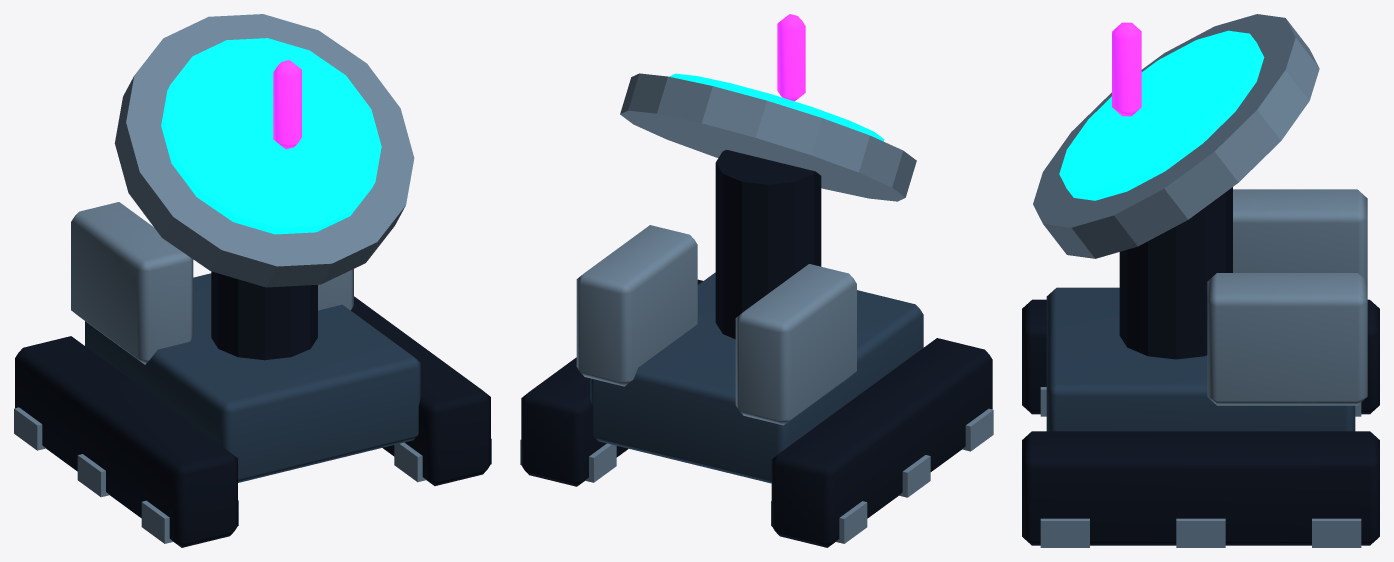
The model's file is disruptor.glb.
3 renders of one model, left to right at view 1: azimuth 30°, elevation 25°; view 2: azimuth 150°, elevation 25°; view 3: azimuth 270°, elevation 25°, orthographic. The views are drawn at different scales.
Parts seen in each view (by area): view 1: Electronic warfare chassis, Induction face, Faceted emitter dish, Tracked outrigger, Capacitor bank, Tracked outrigger.001, Emitter swivel, Pulse feed, Capacitor bank.001, Track shoe.002, Track shoe.001, Track shoe (+1 smaller); view 2: Electronic warfare chassis, Tracked outrigger, Faceted emitter dish, Capacitor bank, Capacitor bank.001, Emitter swivel, Tracked outrigger.001, Pulse feed, Induction face, Track shoe, Track shoe.001, Track shoe.002 (+1 smaller); view 3: Tracked outrigger.001, Faceted emitter dish, Electronic warfare chassis, Capacitor bank.001, Induction face, Emitter swivel, Capacitor bank, Tracked outrigger, Pulse feed, Track shoe.004, Track shoe.003, Track shoe.005.
Boxes of the visible parts, <box> form: Electronic warfare chassis: <box>85,273,420,482</box>; Induction face: <box>161,38,381,234</box>; Faceted emitter dish: <box>114,14,414,287</box>; Tracked outrigger: <box>15,336,237,547</box>; Capacitor bank: <box>71,202,193,364</box>; Tracked outrigger.001: <box>351,296,490,485</box>; Emitter swivel: <box>211,271,317,360</box>; Pulse feed: <box>273,60,301,149</box>; Capacitor bank.001: <box>318,269,353,310</box>; Track shoe.002: <box>141,500,238,543</box>; Track shoe.001: <box>77,454,109,497</box>; Track shoe: <box>14,407,45,450</box>; Electronic warfare chassis: <box>590,272,923,483</box>; Tracked outrigger: <box>771,338,992,547</box>; Faceted emitter dish: <box>620,73,916,201</box>; Capacitor bank: <box>735,264,856,425</box>; Capacitor bank.001: <box>576,225,697,386</box>; Emitter swivel: <box>715,149,821,339</box>; Tracked outrigger.001: <box>521,279,702,486</box>; Pulse feed: <box>777,14,805,101</box>; Induction face: <box>669,73,884,141</box>; Track shoe: <box>771,501,867,543</box>; Track shoe.001: <box>899,455,930,497</box>; Track shoe.002: <box>962,408,993,451</box>; Tracked outrigger.001: <box>1022,431,1379,545</box>; Faceted emitter dish: <box>1033,14,1319,258</box>; Electronic warfare chassis: <box>1046,287,1355,431</box>; Capacitor bank.001: <box>1207,273,1367,405</box>; Induction face: <box>1059,30,1264,200</box>; Emitter swivel: <box>1119,187,1232,359</box>; Capacitor bank: <box>1233,189,1367,281</box>; Tracked outrigger: <box>1022,299,1379,414</box>; Pulse feed: <box>1112,22,1141,116</box>; Track shoe.004: <box>1176,518,1225,547</box>; Track shoe.003: <box>1312,518,1361,547</box>; Track shoe.005: <box>1040,518,1089,547</box>.
Bounding box in the file's own units: 1.63 × 1.98 × 1.45.
